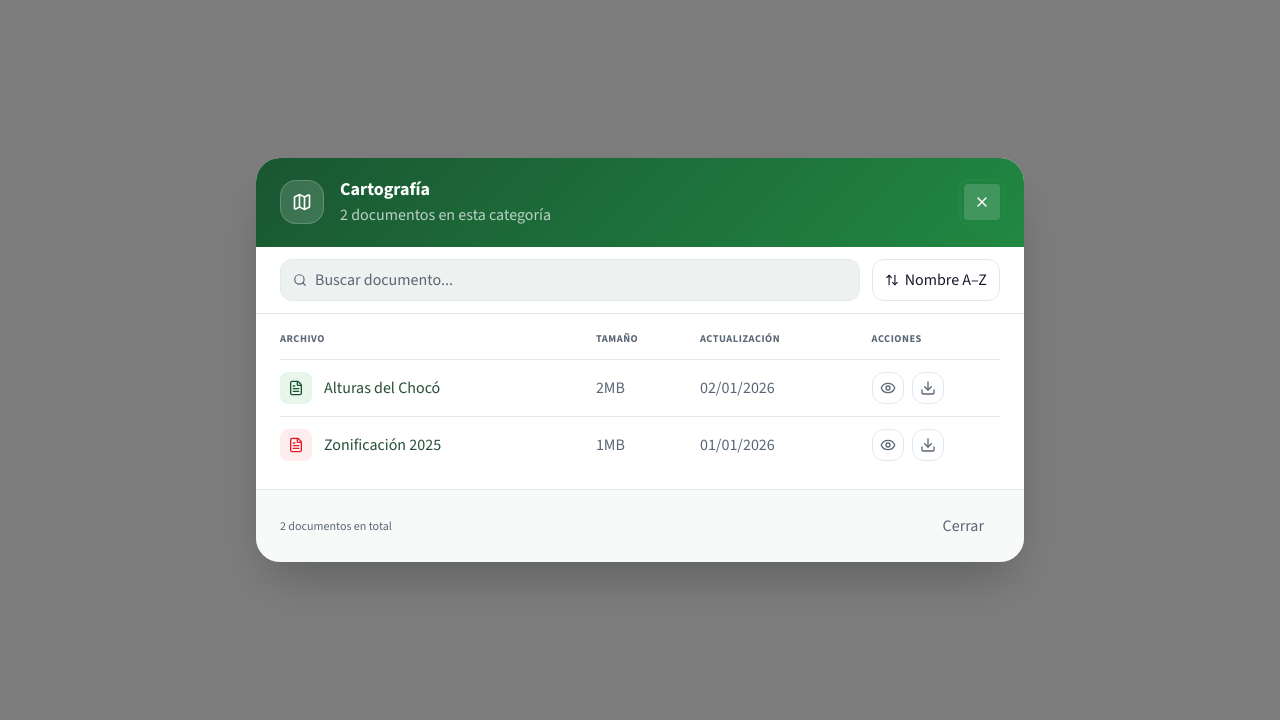
it: CategoryModal — búsqueda y orden › el ícono X junto al buscador limpia la consulta sin cerrar el modal
Step 1. Type "Alturas" into the field with placeholder "Buscar documento..." → (581, 280), box [315,268,847,292]
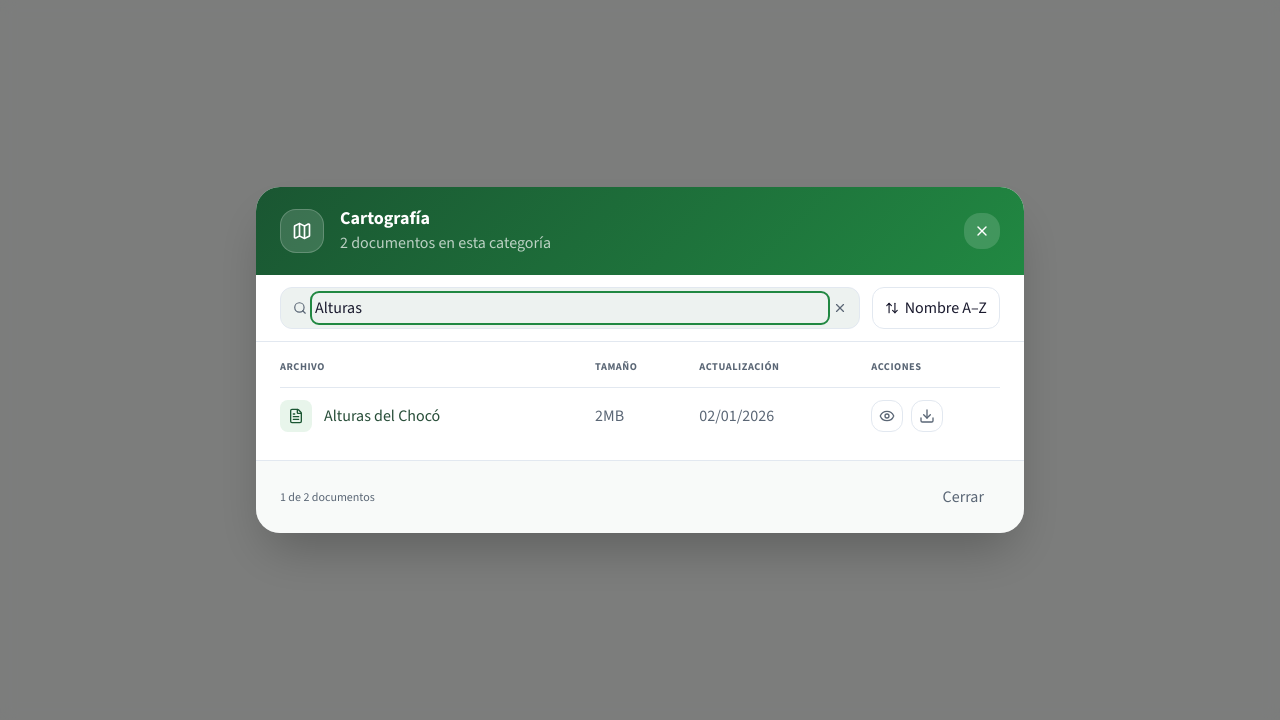
Step 2. Click the 2nd button → click(840, 308), box [833,301,847,315]
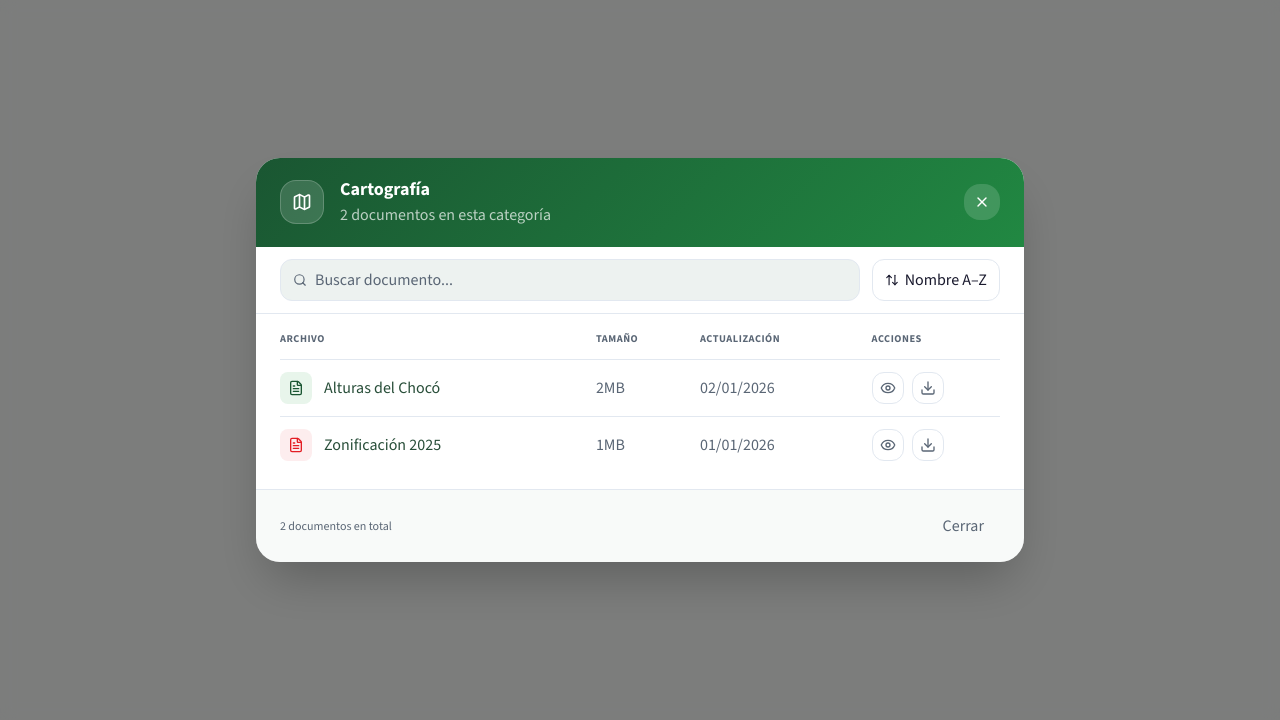
Expected: the field with placeholder "Buscar documento..." is empty, [315,268,847,292]
Expected: the button "Zonificación 2025" is shown, [324,433,441,457]
